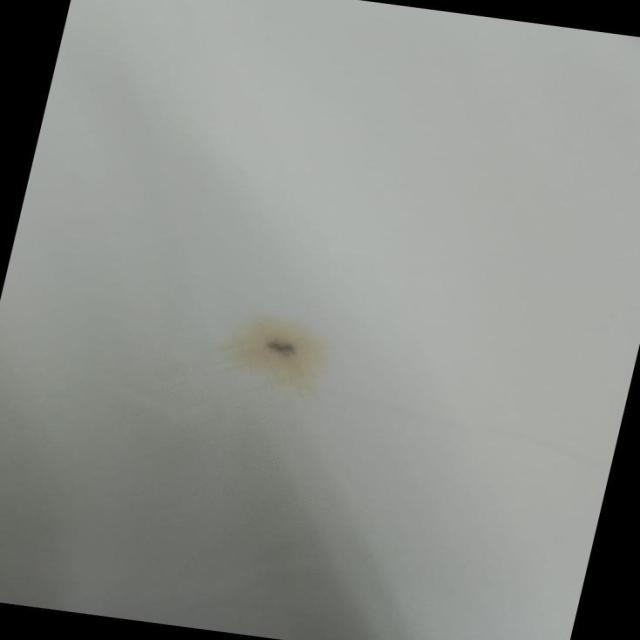stain: (204, 308, 344, 396)
